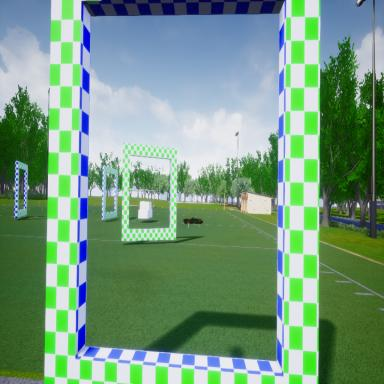gate: (44, 0, 323, 384), (122, 139, 180, 244), (100, 161, 120, 221), (11, 160, 30, 222)
